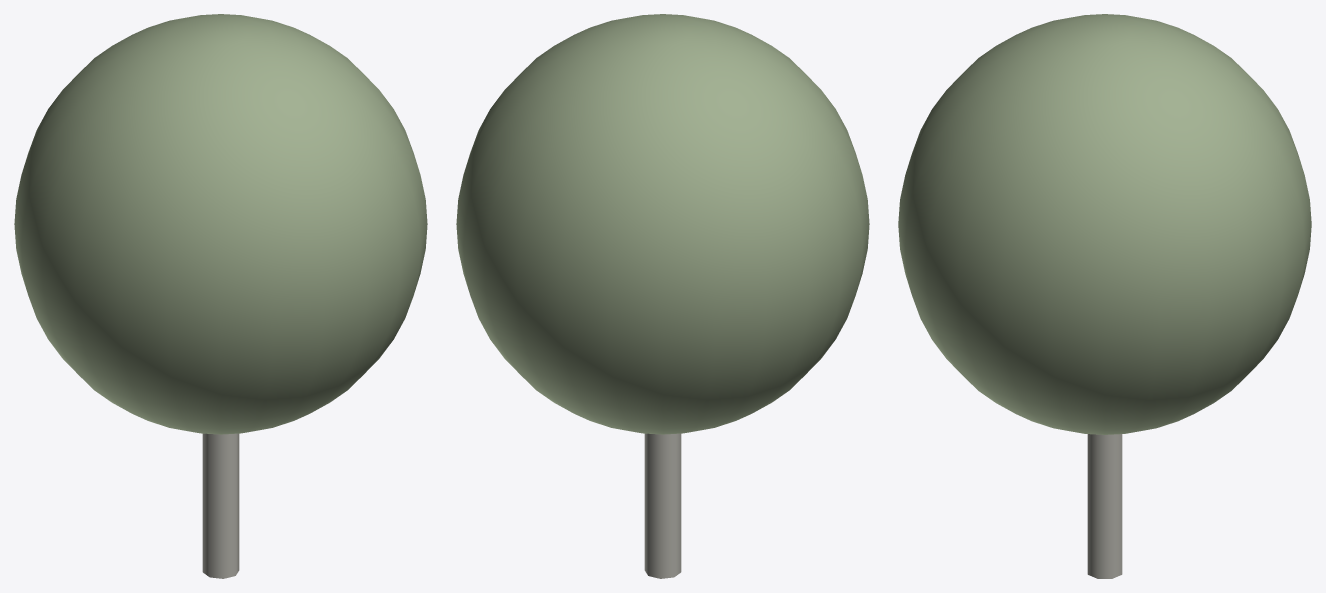
The model's file is UmbellulariaCalifornica.glb.
The picture shows the model from 3 angles, left to right: view 1: azimuth 30°, elevation 25°; view 2: azimuth 150°, elevation 25°; view 3: azimuth 270°, elevation 25°; orthographic projection.
Visible parts, largest first — view 1: California_Bay__Schematic_LOD3; view 2: California_Bay__Schematic_LOD3; view 3: California_Bay__Schematic_LOD3.
Part boxes in pixels (x1=…): California_Bay__Schematic_LOD3: x1=14, y1=14, x2=427, y2=578; California_Bay__Schematic_LOD3: x1=456, y1=14, x2=869, y2=578; California_Bay__Schematic_LOD3: x1=898, y1=14, x2=1311, y2=578.
Size of the model in its own units: 18.86 by 27.12 by 18.86.
